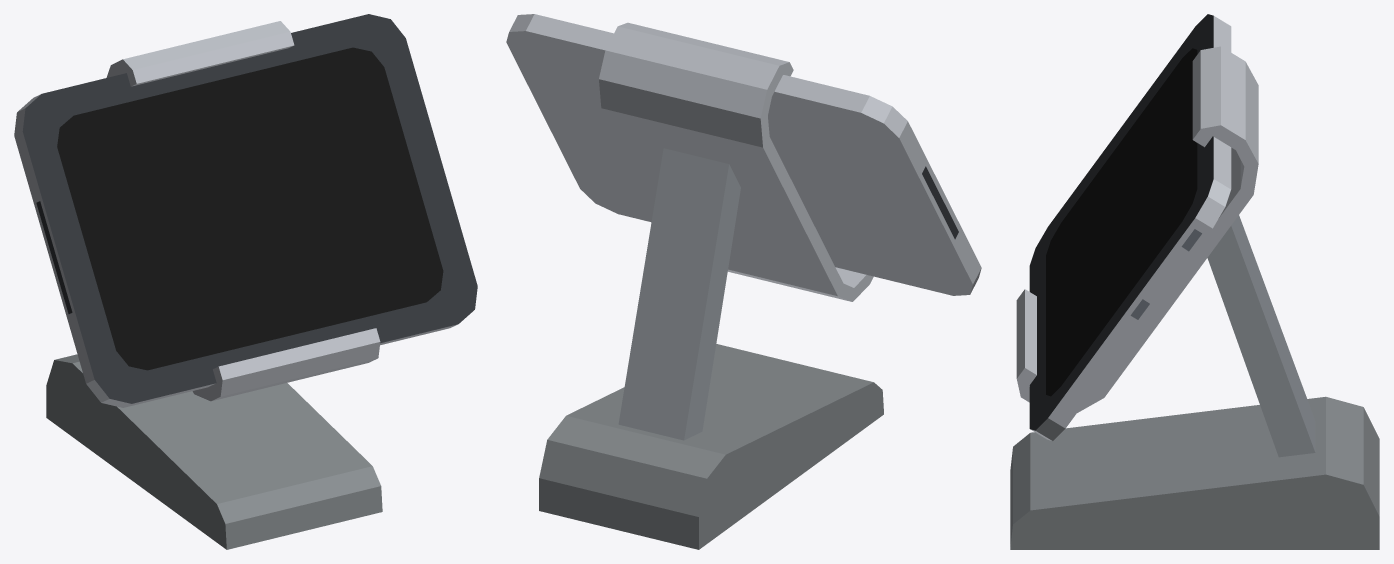
The model's file is SM_Prop_Cash_Register_02.obj.
3 views of the same model, side by side, from view 1: azimuth 30°, elevation 25°; view 2: azimuth 150°, elevation 25°; view 3: azimuth 270°, elevation 25° (orthographic). The views are drawn at different scales.
Parts seen in each view (by area): view 1: SM_Prop_Cash_Register_02_0; view 2: SM_Prop_Cash_Register_02_0; view 3: SM_Prop_Cash_Register_02_0.
Part boxes in pixels (x1,y1,x2,y2): SM_Prop_Cash_Register_02_0: (14,14,477,549); SM_Prop_Cash_Register_02_0: (506,14,981,549); SM_Prop_Cash_Register_02_0: (1010,14,1379,549).
Size of the model in its own units: 0.4654 by 0.4823 by 0.38.
1 material, 1 textured.
